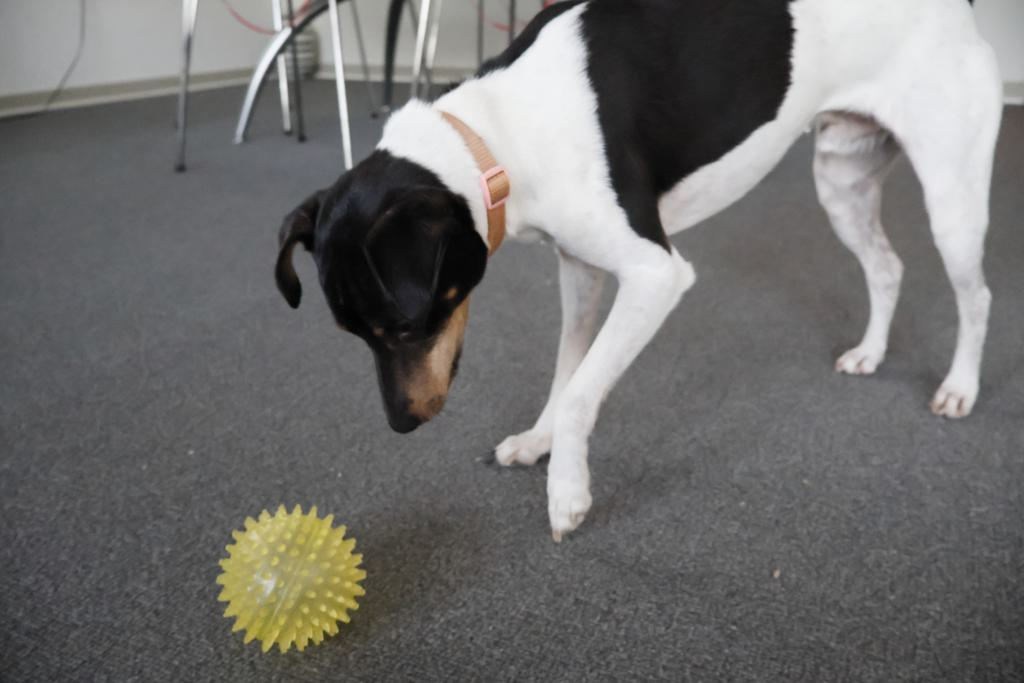Dog: (264, 0, 1011, 545)
